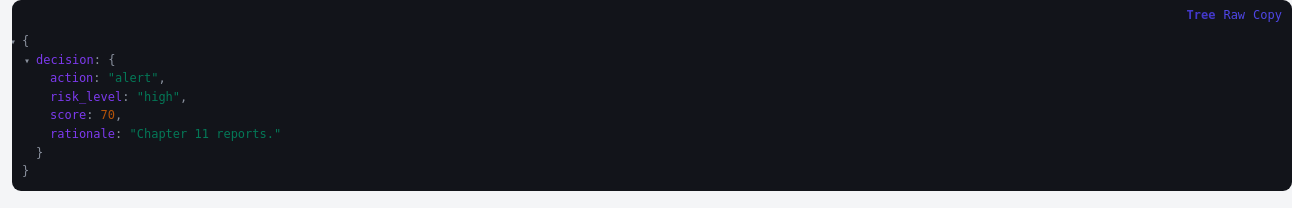
Test: a node output reads as a tree, not an escaped string › folds an object down to a count and opens it again
# The inner object: second fold button (the first is the root).
Click the button named "collapse". click: click(29, 60)
box: [22, 53, 36, 68]
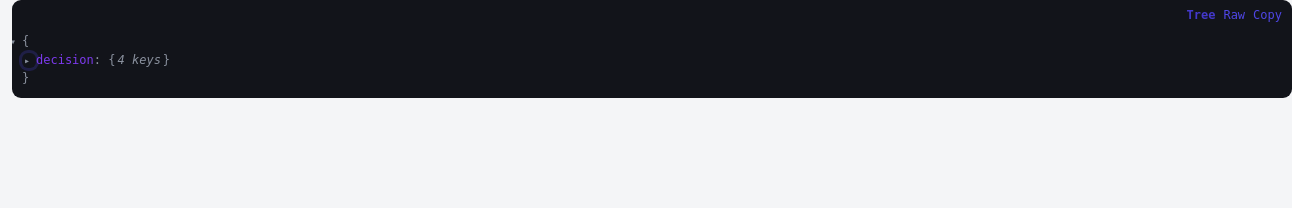
Expected: the button "4 keys" is shown
Expected: the text "risk_level" is gone
Click the button "4 keys". click: click(139, 60)
box: [116, 51, 163, 69]
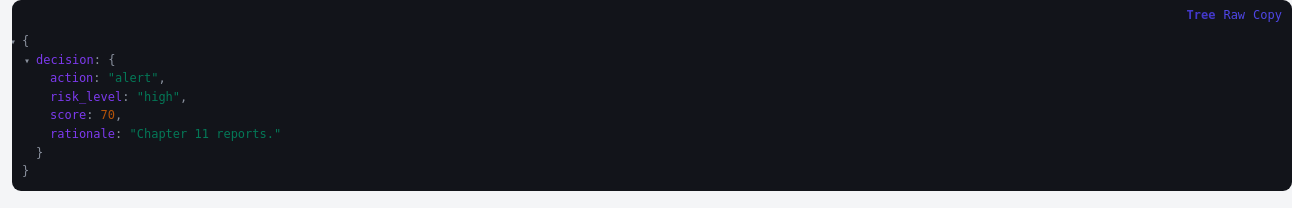
Expected: the text "risk_level" is shown, [50, 90, 122, 104]
